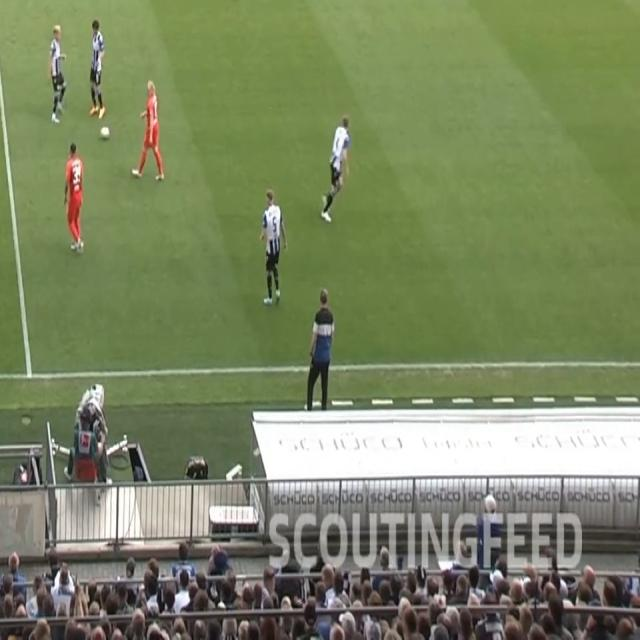ball: (99, 125, 110, 142)
